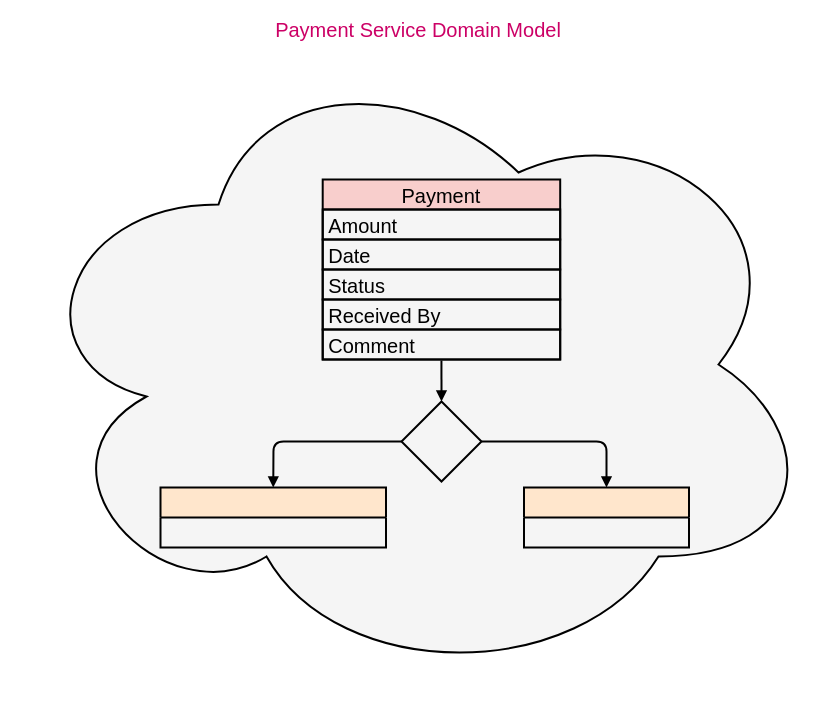
Some shapes in this 836 by 702 pixel diagram are drawn without their labels. The centre of each missing label's shape, as x and y in pixels:
"Customer" goes at (606,517).
"Has" goes at (441,441).
"Invoice" goes at (272,517).
